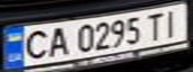0: (72, 21, 96, 53)
2: (93, 19, 115, 51)
5: (124, 14, 148, 45)
9: (109, 16, 130, 48)
A: (42, 25, 72, 57)
C: (18, 28, 51, 61)
I: (157, 7, 187, 38)
T: (142, 10, 169, 40)
